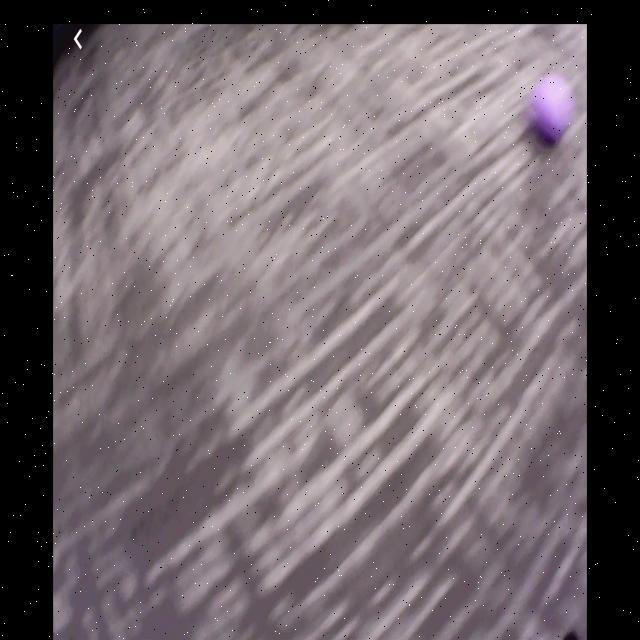ball: (536, 75, 572, 138)
